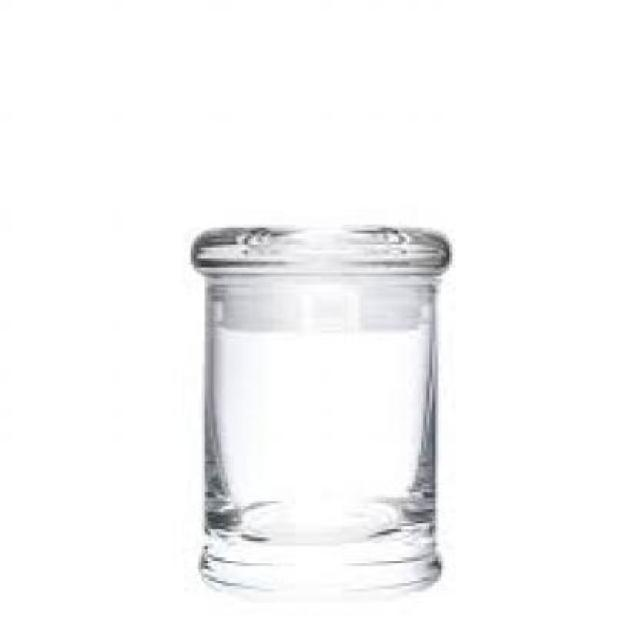kaca: (191, 224, 446, 594)
